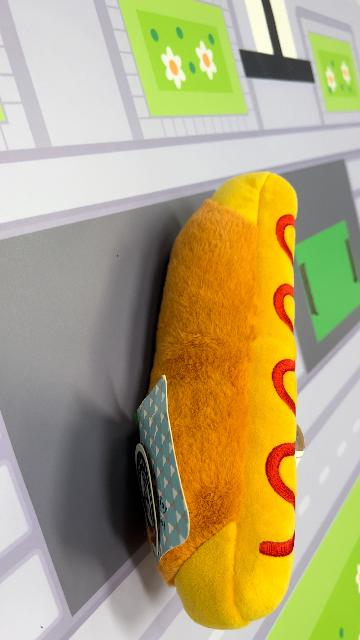hotdog: (134, 170, 301, 632)
